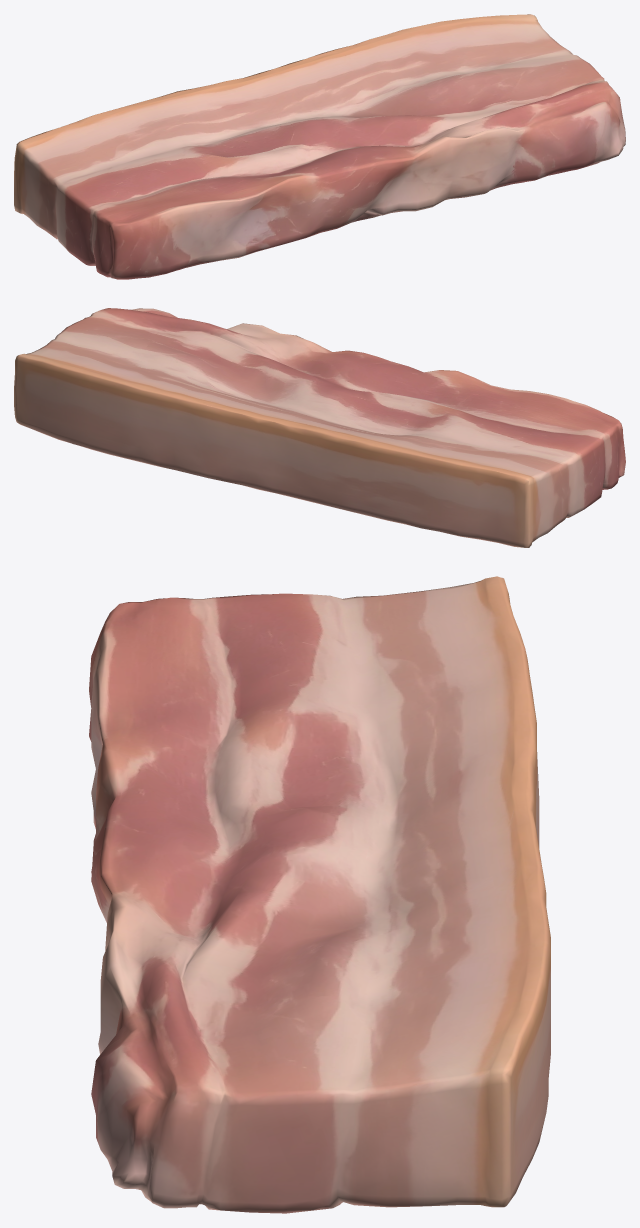
Rendered from optimized_glb.glb.
3 views of the same model, one above another, from view 1: azimuth 30°, elevation 25°; view 2: azimuth 150°, elevation 25°; view 3: azimuth 270°, elevation 25° (orthographic). The views are drawn at different scales.
Visible parts, largest first — view 1: Pork Belly Slice; view 2: Pork Belly Slice; view 3: Pork Belly Slice.
Boxes of the visible parts, x1,y1,x2,y2 form: Pork Belly Slice: (14, 14, 625, 279); Pork Belly Slice: (14, 308, 625, 547); Pork Belly Slice: (89, 576, 550, 1213).
Size of the model in its own units: 0.998 by 0.1582 by 0.3848.
1 material, 1 textured.
